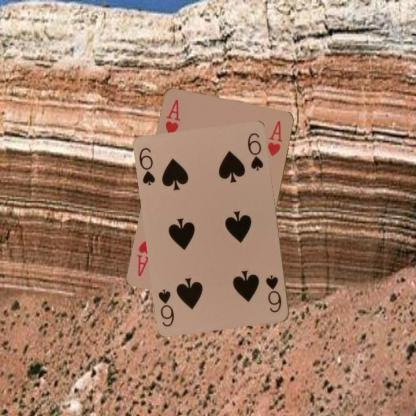6s: (136, 145, 157, 187), (264, 272, 283, 314)
Ah: (162, 96, 181, 136)
